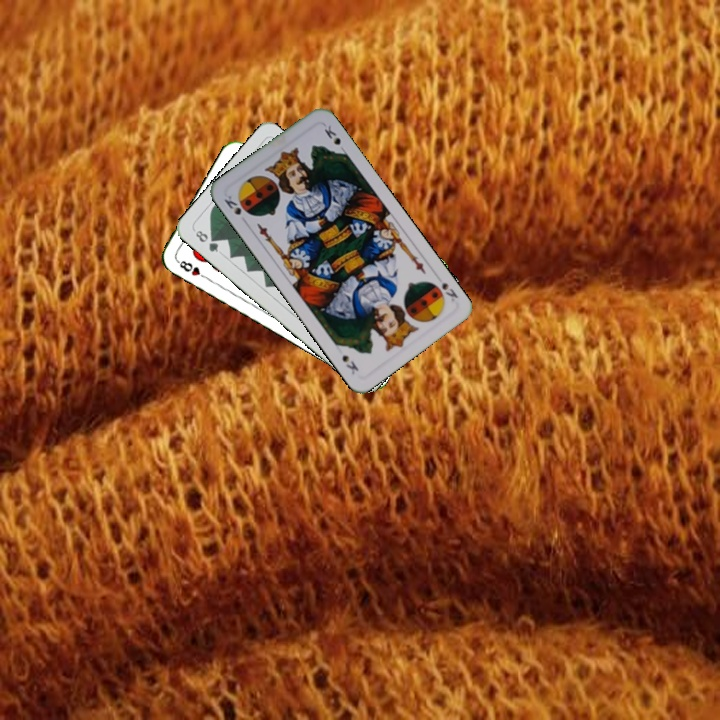G8: (191, 226, 221, 255)
H8: (173, 256, 210, 282)
SK: (220, 191, 244, 218), (438, 278, 461, 304)
